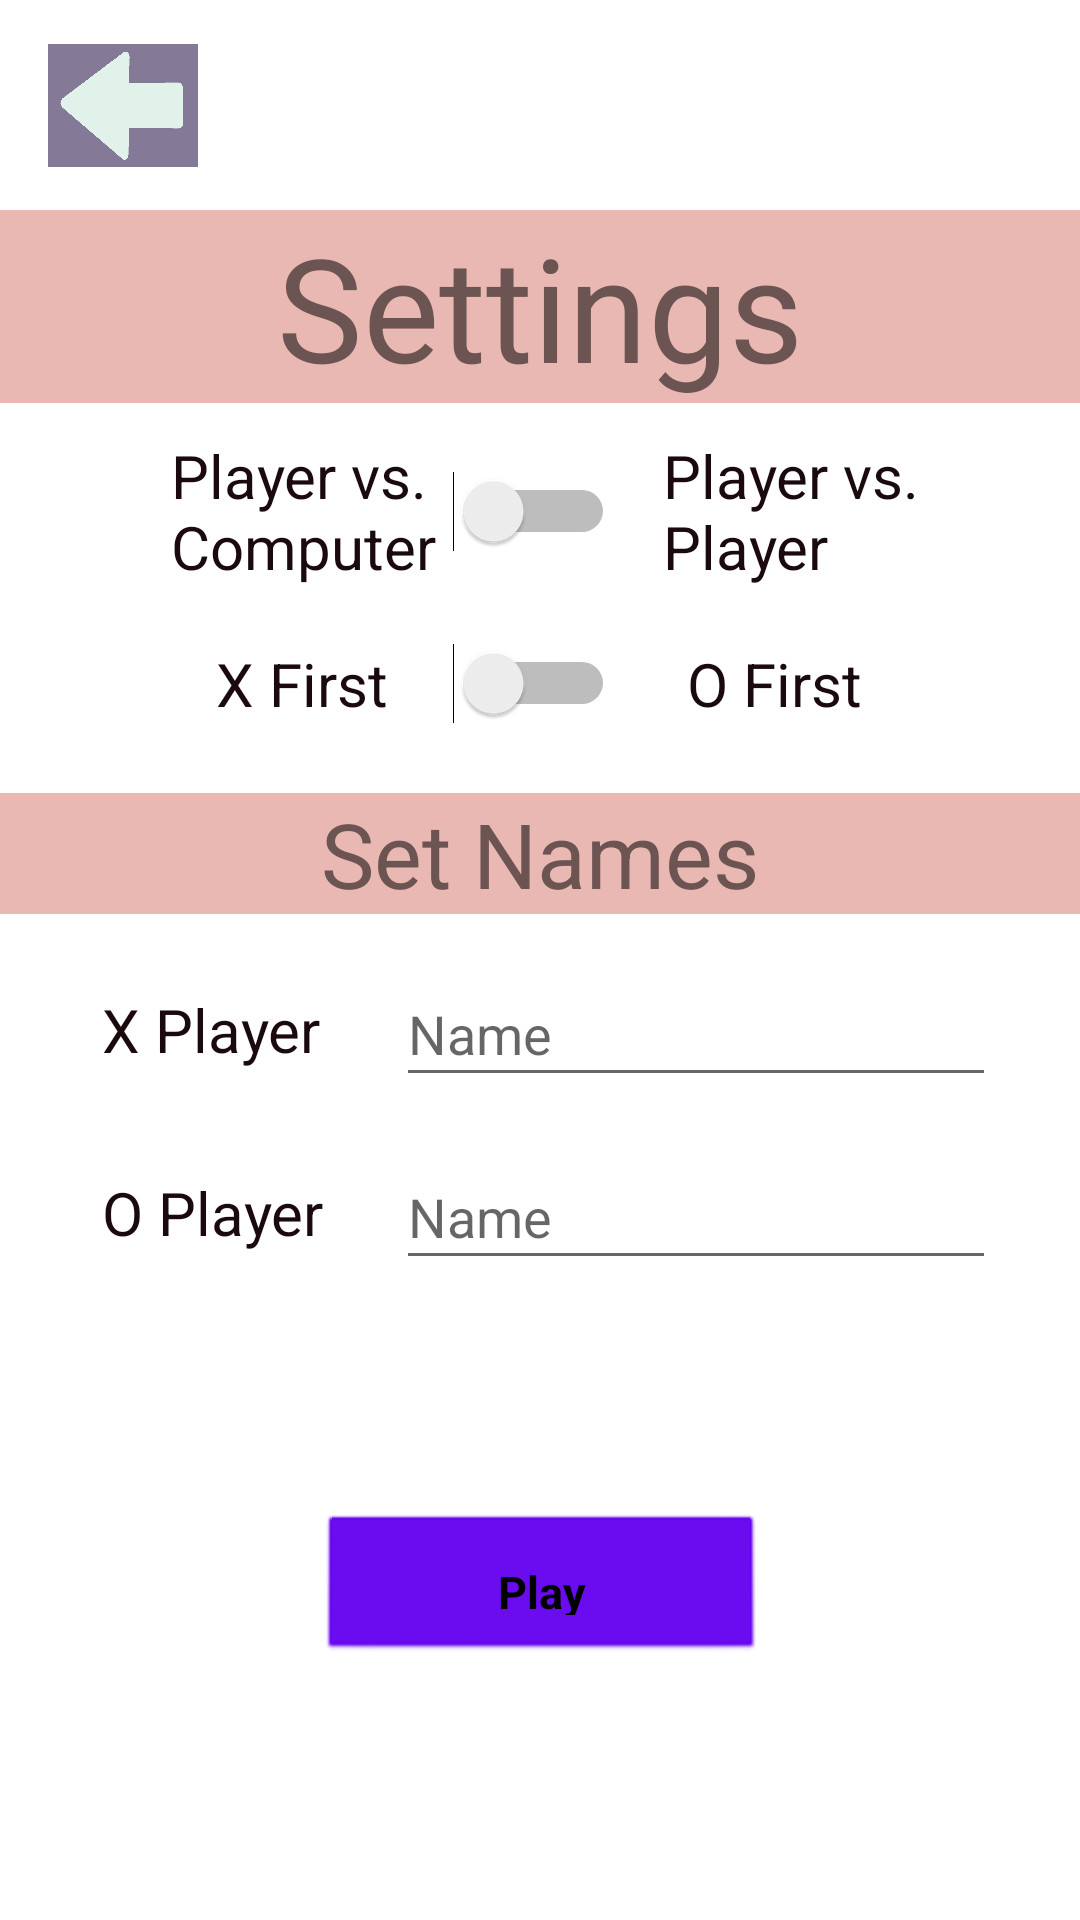

Named icons in this screenshot (1080w x 1920h) and their centers, (x,y):
Small arrow to go up to previous menu: (123,105)
